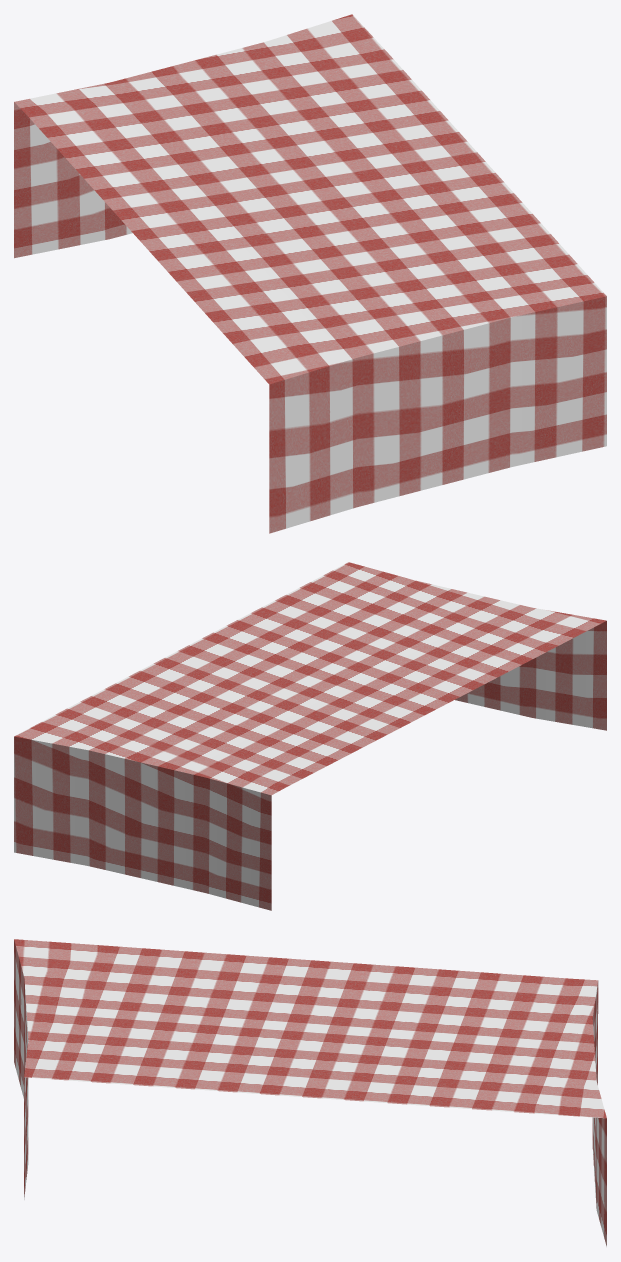
File: lvl3_tablecloth_mesh.FBX
3 renders of one model, top to bottom at view 1: azimuth 30°, elevation 25°; view 2: azimuth 150°, elevation 25°; view 3: azimuth 270°, elevation 25°, orthographic. The views are drawn at different scales.
Visible parts, largest first — view 1: Plane001; view 2: Plane001; view 3: Plane001.
Boxes of the visible parts, x1,y1,x2,y2 form: Plane001: [14, 14, 606, 533]; Plane001: [14, 562, 606, 910]; Plane001: [14, 939, 606, 1246].
Size of the model in its own units: 1546 by 529 by 2176.
